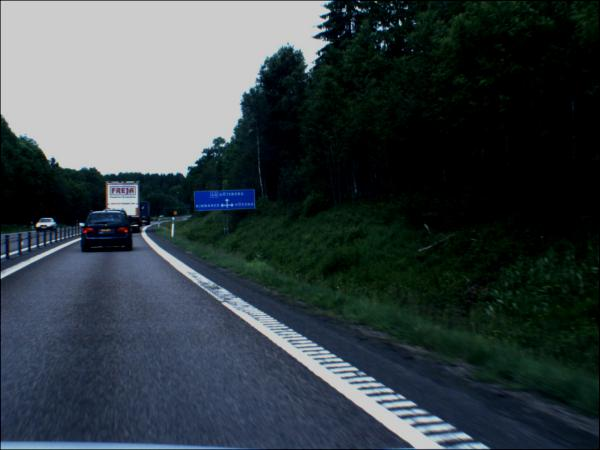70_SIGN: (175, 212, 179, 217)
